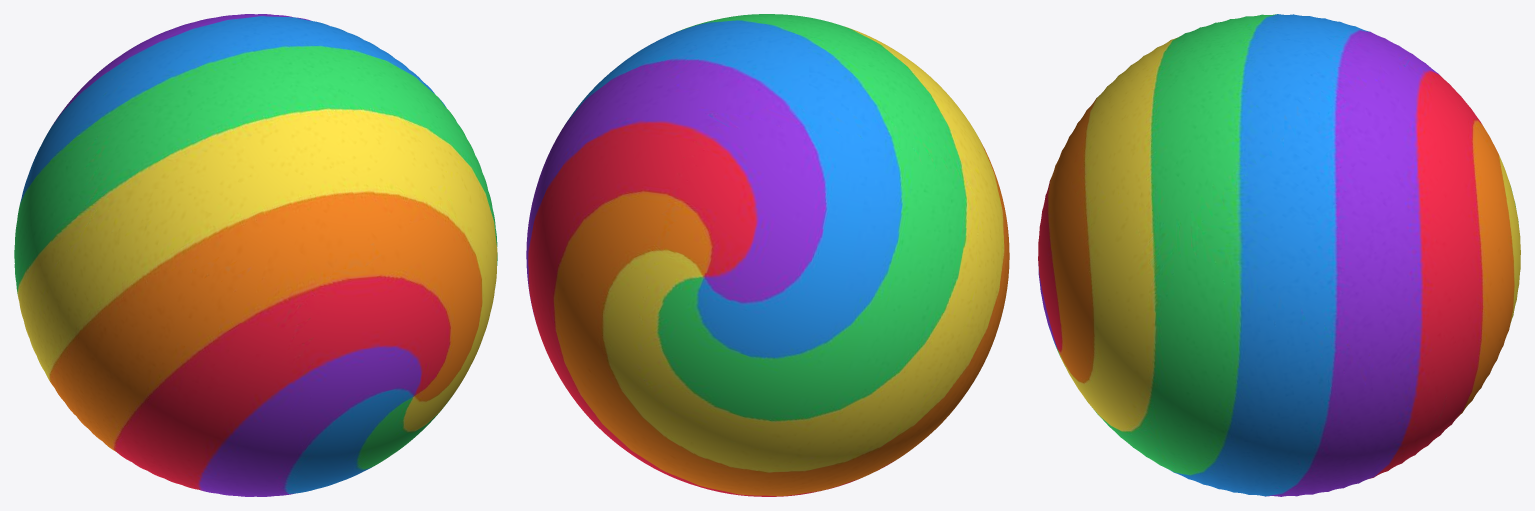
3 renders of one model, left to right at view 1: azimuth 30°, elevation 25°; view 2: azimuth 150°, elevation 25°; view 3: azimuth 270°, elevation 25°, orthographic.
Parts seen in each view (by area): view 1: anim_Rainbow_candy_glaze_0; view 2: anim_Rainbow_candy_glaze_0; view 3: anim_Rainbow_candy_glaze_0.
Boxes of the visible parts, x1,y1,x2,y2 form: anim_Rainbow_candy_glaze_0: (14, 14, 497, 496); anim_Rainbow_candy_glaze_0: (526, 14, 1009, 496); anim_Rainbow_candy_glaze_0: (1038, 14, 1520, 496).
Bounding box in the file's own units: 0.7796 × 0.7799 × 0.7799.
Materials: 1 (1 with a texture image).
